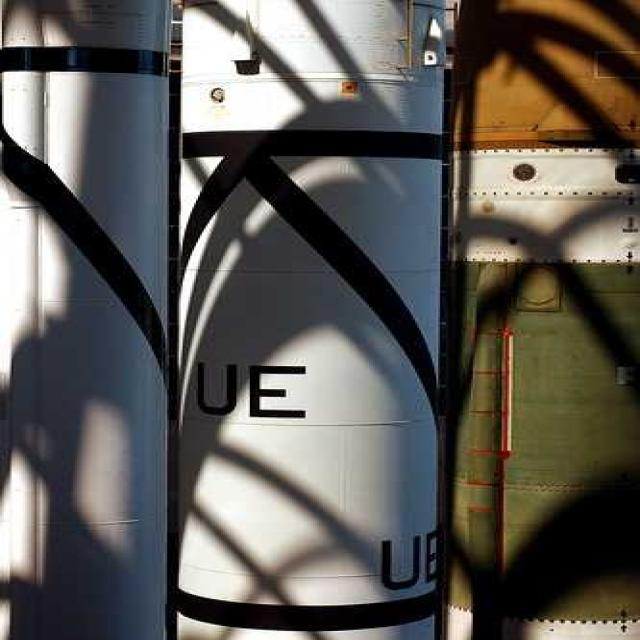missile: (187, 8, 452, 638), (453, 2, 640, 640), (14, 6, 185, 640)
